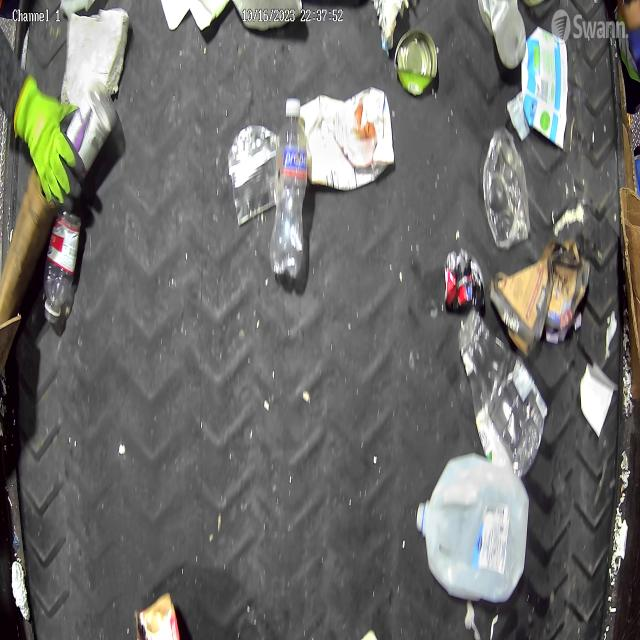can: (299, 86, 395, 192), (227, 122, 279, 228), (395, 29, 440, 99), (444, 248, 485, 316)
milk_jug: (419, 453, 532, 604)
plastic_bottle: (456, 308, 547, 478), (272, 97, 308, 281), (41, 210, 82, 320)
